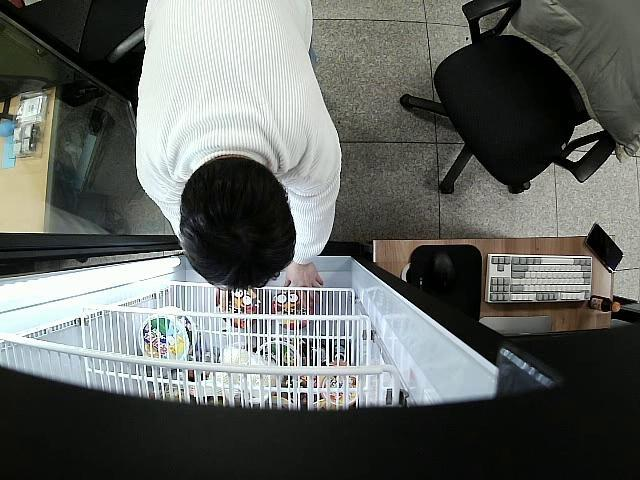05_nuguri_L: (274, 292, 312, 329)
